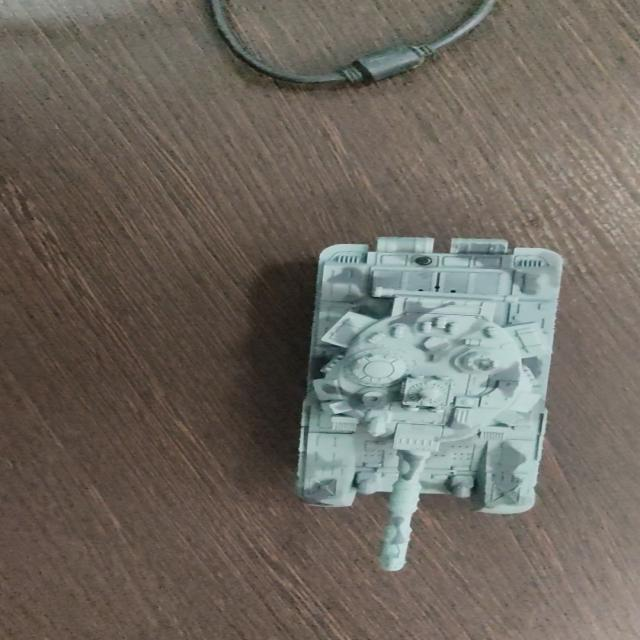tank: (307, 232, 549, 574)
